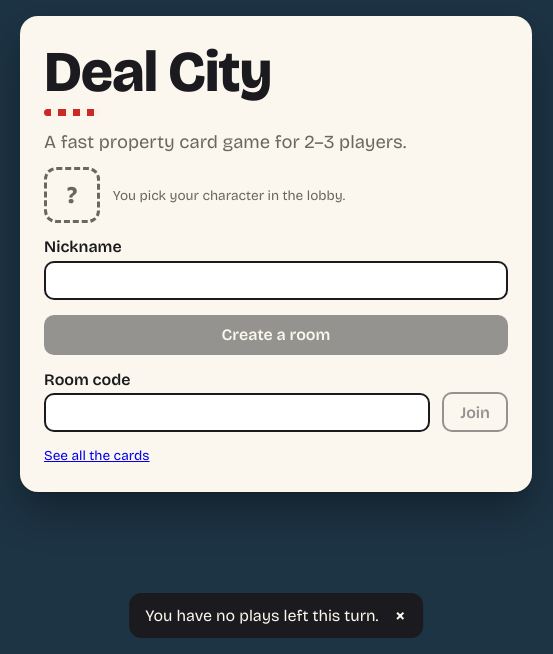
shell › shows errors as a dismissable toast
Expected: the message shows "You have no plays left this turn.", [145, 606, 378, 625]
Click the button named "Dismiss": (400, 615) [390, 604, 410, 627]
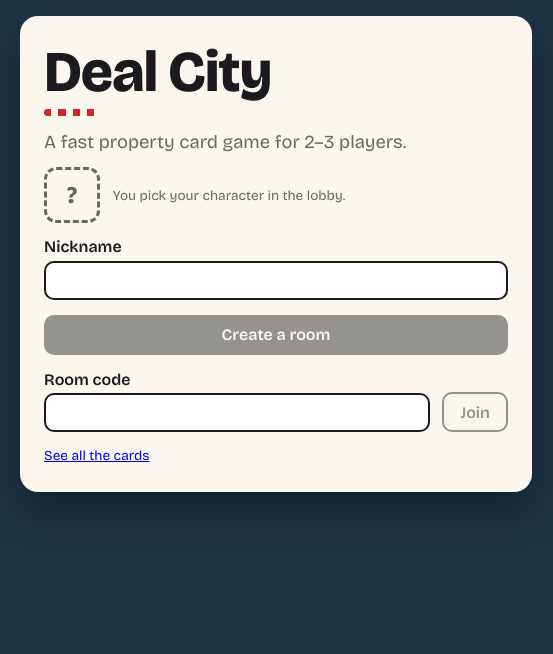
Expected: the message "You have no plays left this turn. ×" is gone
